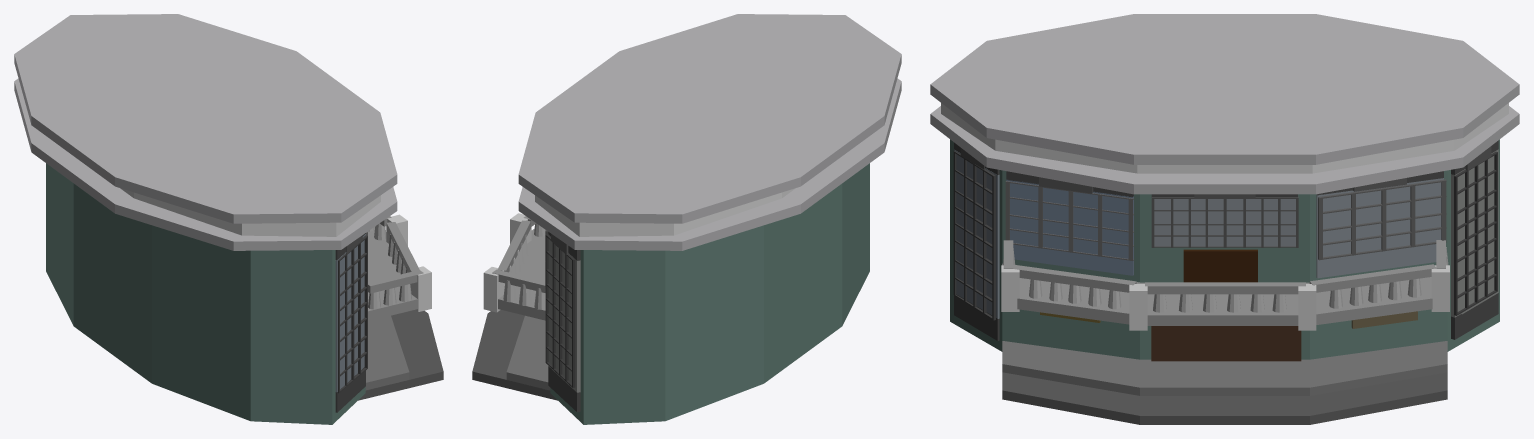
File: geefront.fbx
3 views of the same model, side by side, from view 1: azimuth 30°, elevation 25°; view 2: azimuth 150°, elevation 25°; view 3: azimuth 270°, elevation 25° (orthographic). The views are drawn at different scales.
Parts seen in each view (by area): view 1: Cone.004, Cone, Cube.003, Cone.027, Cone.002, Cube.022, Cube.015, Cone.028, Cone.024, Cube.006, Cube.009; view 2: Cone.004, Cone, Cone.027, Cube.023, Cube.003, Cone.002, Cube.020, Cone.028, Cone.024, Cube.006, Cube.009; view 3: Cone.004, Cone, Cone.028, Cube.003, Cone.027, Cube.019, Cube.017, Cube.018, Cone.002, Cube.026, Cube.015, Cube.020 (+11 smaller).
Boxes of the visible parts, x1,y1,x2,y2 form: Cone.004: (14,14,397,250); Cone: (46,163,365,424); Cube.003: (368,216,423,320); Cone.027: (358,310,443,400); Cone.002: (120,188,380,236); Cube.022: (338,235,367,393); Cube.015: (335,234,365,392); Cone.028: (365,315,409,390); Cone.024: (368,223,411,309); Cube.006: (386,214,431,311); Cube.009: (335,233,365,412); Cone.004: (518,14,901,250); Cone: (550,163,869,424); Cone.027: (472,310,557,400); Cube.023: (545,234,575,387); Cube.003: (492,216,545,320); Cone.002: (535,188,795,236); Cube.020: (548,234,580,392); Cone.028: (506,315,550,390); Cone.024: (503,223,545,309); Cube.006: (483,213,531,312); Cube.009: (548,232,580,412); Cone.004: (930,14,1519,194); Cone: (950,139,1499,359); Cone.028: (1002,341,1447,395); Cube.003: (1002,240,1445,325); Cone.027: (1002,372,1447,424); Cube.019: (1316,178,1443,278); Cube.017: (1006,179,1133,275); Cube.018: (1154,199,1295,246); Cone.002: (941,103,1508,173); Cube.026: (1151,326,1301,361); Cube.015: (954,149,999,318); Cube.020: (1451,149,1498,317).
Size of the model in its own units: 3231 by 2187 by 4798.
